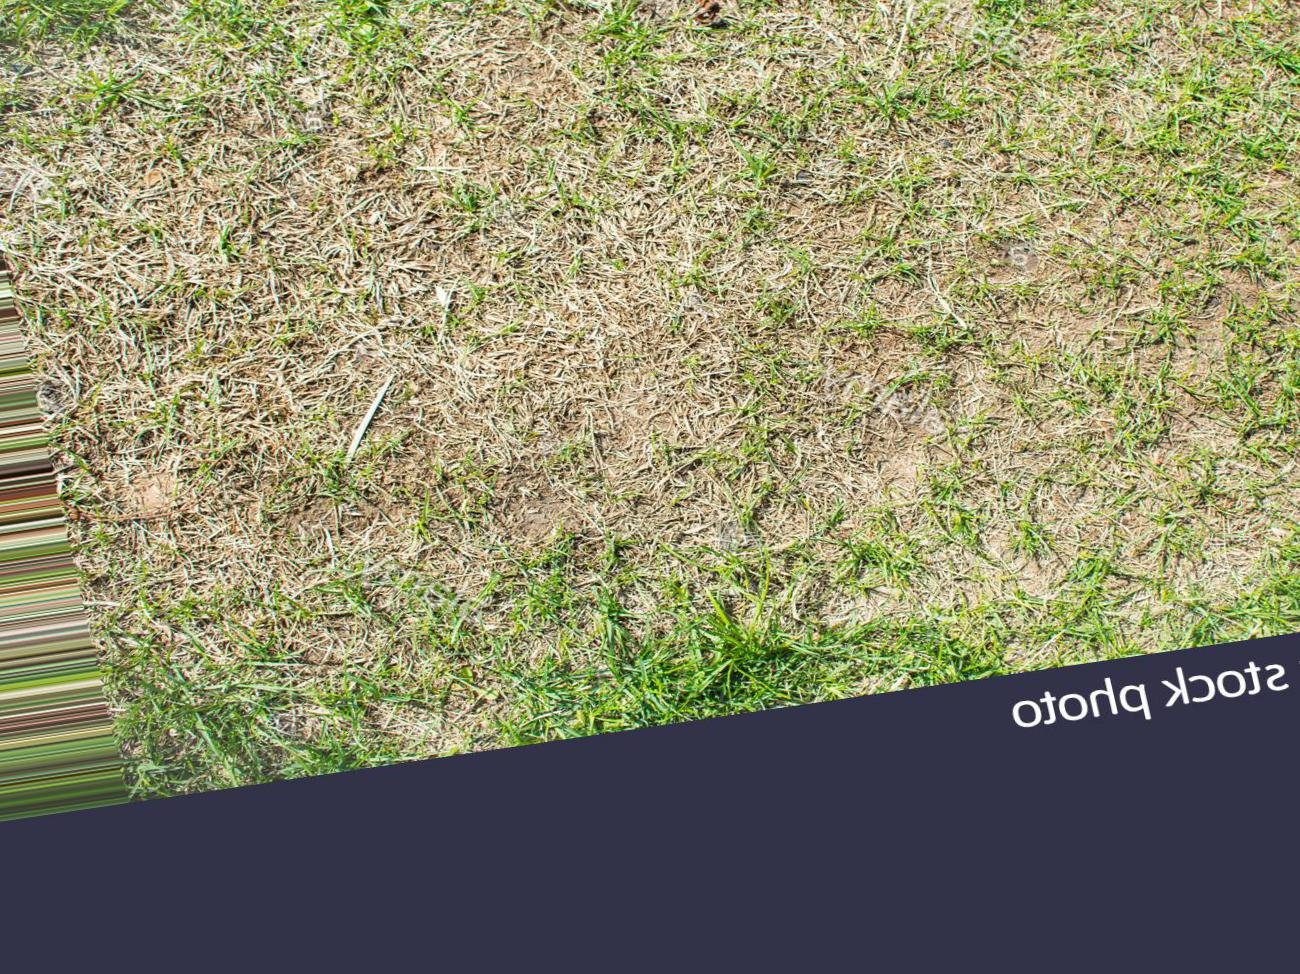patch: (77, 83, 1015, 539), (191, 573, 513, 755), (1010, 200, 1215, 418), (1030, 457, 1220, 605)
